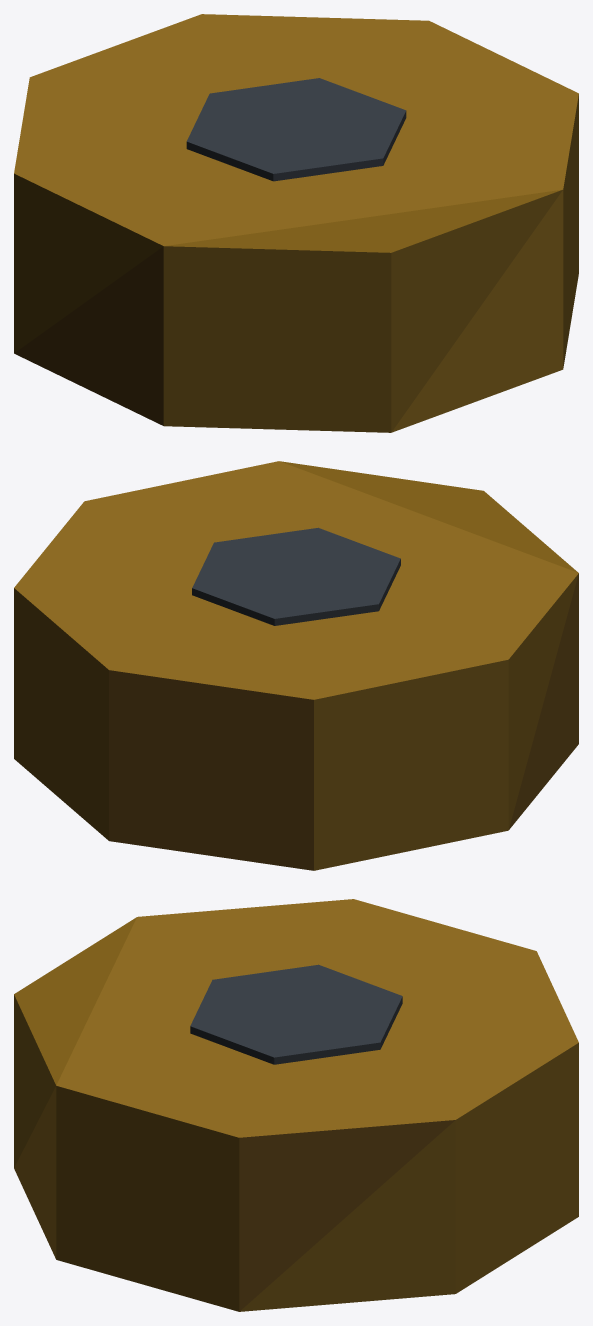
Rendered from coin.gltf.
3 views of the same model, one above another, from view 1: azimuth 30°, elevation 25°; view 2: azimuth 150°, elevation 25°; view 3: azimuth 270°, elevation 25° (orthographic). The views are drawn at different scales.
Parts seen in each view (by area): view 1: coin; view 2: coin; view 3: coin.
Boxes of the visible parts, <box> form: coin: <box>14,14,578,432</box>; coin: <box>14,461,578,870</box>; coin: <box>14,899,578,1311</box>.
Size of the model in its own units: 0.3528 by 0.13 by 0.3528.
1 material, 1 textured.
